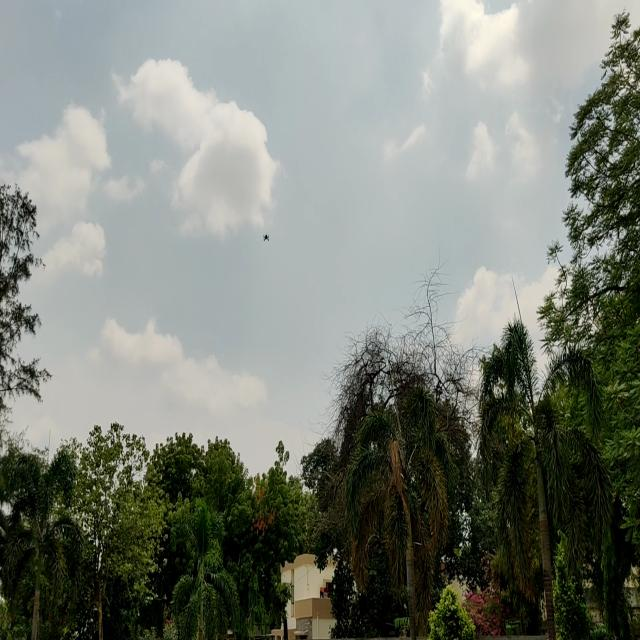drone: (261, 231, 272, 247)
